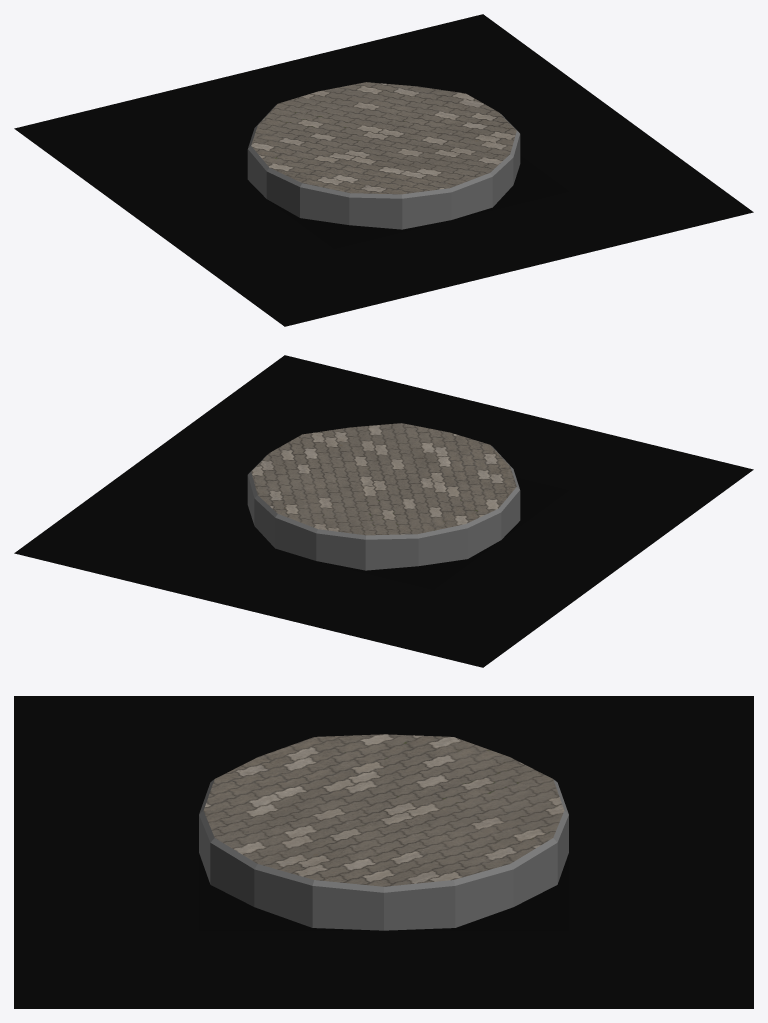
The model's file is Roundabout.fbx.
The picture shows the model from 3 angles, top to bottom: view 1: azimuth 30°, elevation 25°; view 2: azimuth 150°, elevation 25°; view 3: azimuth 270°, elevation 25°; orthographic projection. The views are drawn at different scales.
Parts seen in each view (by area): view 1: Roundabout; view 2: Roundabout; view 3: Roundabout.
Part boxes in pixels (x1=…): Roundabout: x1=14, y1=14, x2=753, y2=326; Roundabout: x1=14, y1=355, x2=753, y2=667; Roundabout: x1=14, y1=696, x2=753, y2=1008.
Bounding box in the file's own units: 1600 × 110 × 1600.
